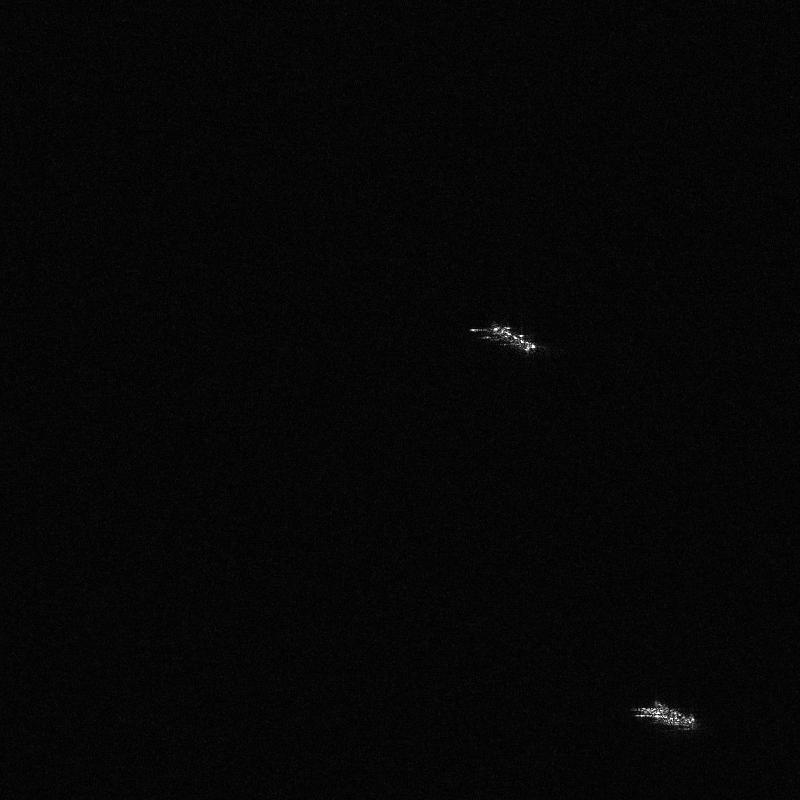ship: (633, 700, 695, 726), (490, 323, 535, 353)
